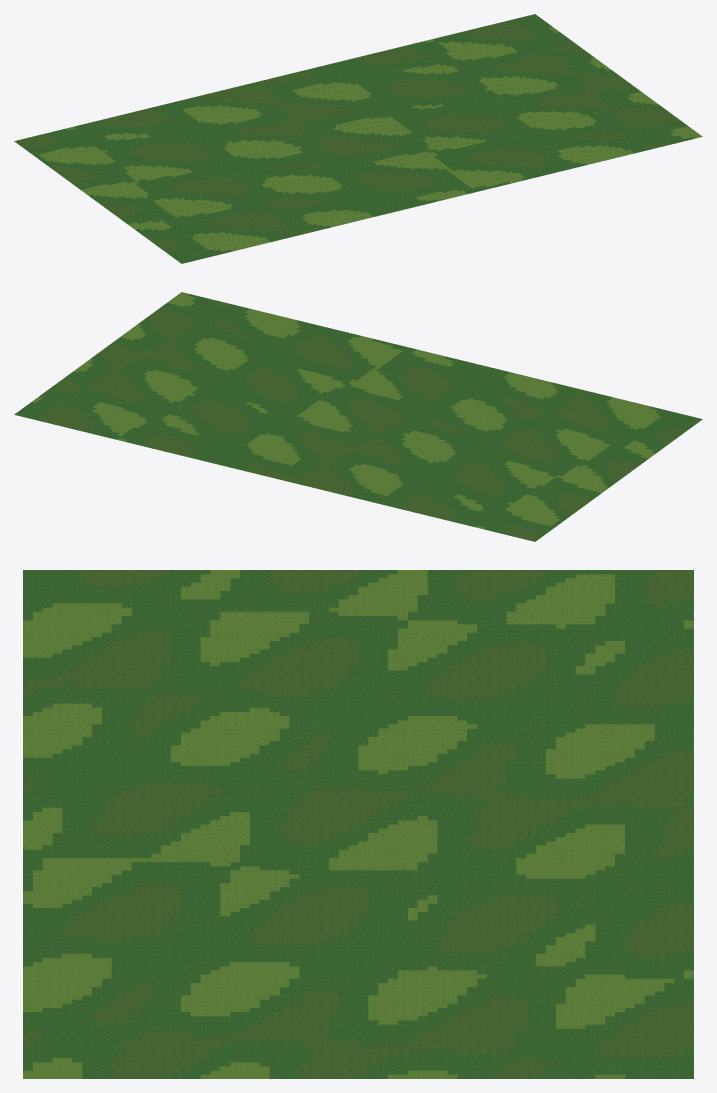
Rendered from SM_Woodland_GroundSkin.fbx.
The picture shows the model from 3 angles, top to bottom: view 1: azimuth 30°, elevation 25°; view 2: azimuth 150°, elevation 25°; view 3: azimuth 270°, elevation 25°; orthographic projection. The views are drawn at different scales.
Visible parts, largest first — view 1: SM_Woodland_GroundSkin; view 2: SM_Woodland_GroundSkin; view 3: SM_Woodland_GroundSkin.
Part boxes in pixels (bbox=[...]): SM_Woodland_GroundSkin: bbox=[14, 14, 702, 263]; SM_Woodland_GroundSkin: bbox=[14, 292, 702, 541]; SM_Woodland_GroundSkin: bbox=[23, 570, 693, 1078].
Bounding box in the file's own units: 6100 × 3400 × 0.
Materials: 1 (1 with a texture image).
